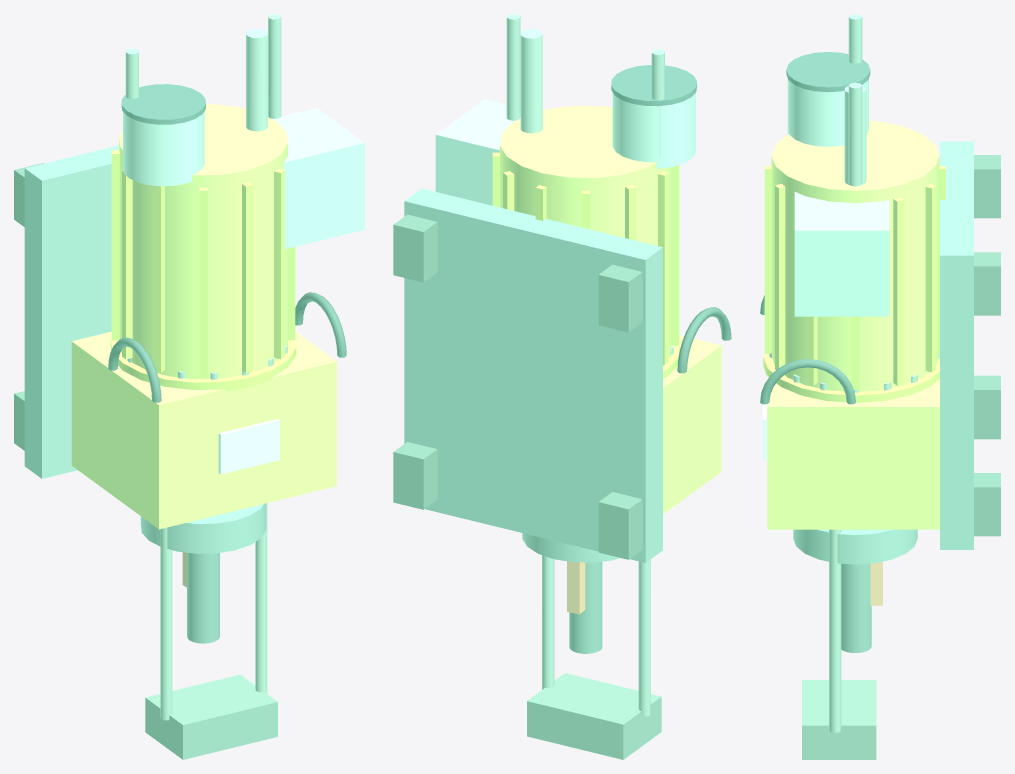
File: topdrive.glb
3 views of the same model, side by side, from view 1: azimuth 30°, elevation 25°; view 2: azimuth 150°, elevation 25°; view 3: azimuth 270°, elevation 25° (orthographic). The views are drawn at different scales.
Visible parts, largest first — view 1: object 3, object 4, object 7, inst, object 5, object 16, object 17, object 23, object 1, object 18, object 22, object 13 (+9 smaller); view 2: object 7, object 4, object 3, object 16, object 5, inst, object 17, object 8, object 10, object 11, object 9, object 18 (+9 smaller); view 3: object 3, object 4, object 7, object 5, inst, object 16, object 23, object 17, object 1, object 18, object 15, object 19 (+9 smaller).
Boxes of the visible parts, x1,y1,x2,y2 form: object 3: (71, 331, 336, 529); object 4: (119, 104, 287, 379); object 7: (24, 114, 271, 478); inst: (111, 150, 295, 377); object 5: (272, 108, 364, 249); object 16: (145, 674, 277, 759); object 17: (123, 111, 204, 186); object 23: (140, 503, 266, 553); object 1: (187, 552, 219, 643); object 18: (121, 84, 205, 124); object 22: (218, 419, 279, 474); object 13: (160, 527, 172, 720); object 7: (404, 188, 662, 562); object 4: (500, 105, 670, 357); object 3: (663, 335, 721, 514); object 16: (527, 673, 661, 759); object 5: (435, 99, 520, 205); inst: (492, 152, 679, 364); object 17: (612, 93, 695, 168); object 8: (598, 492, 642, 559); object 10: (393, 442, 437, 509); object 11: (393, 214, 437, 282); object 9: (598, 264, 642, 332); object 18: (611, 65, 696, 106); object 3: (767, 375, 939, 529); object 4: (771, 121, 939, 391); object 7: (940, 141, 973, 549); object 5: (794, 192, 889, 316); inst: (764, 166, 945, 389); object 16: (802, 680, 876, 759); object 23: (793, 529, 917, 564); object 17: (787, 78, 868, 146); object 1: (841, 563, 871, 652); object 18: (786, 52, 870, 92); object 15: (829, 529, 841, 732); object 19: (763, 353, 939, 402).
Size of the model in its own units: 2.1 by 5.59 by 1.78.
